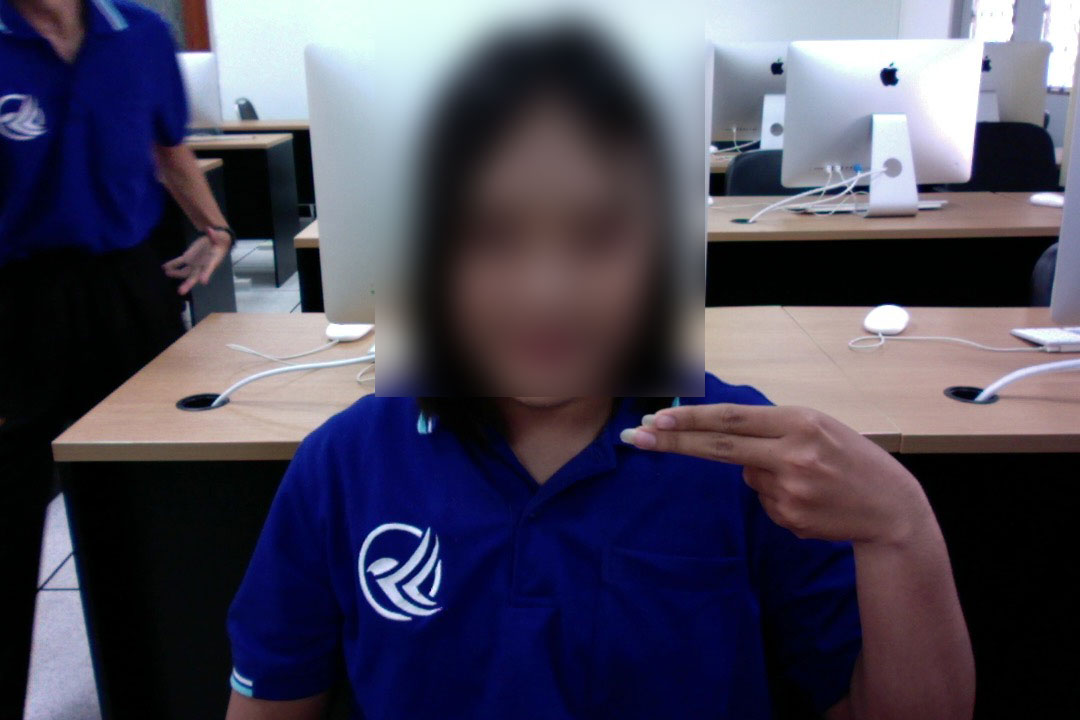hor: (611, 389, 931, 547)
